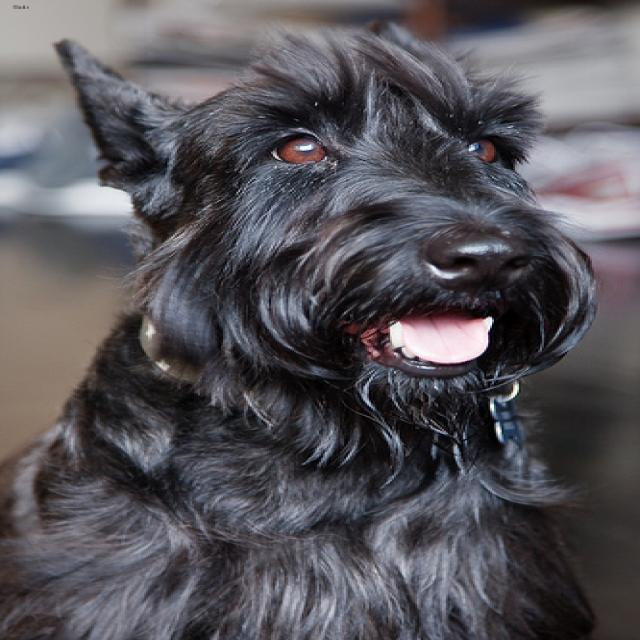dog-scottish_terrier: (2, 10, 619, 637)
